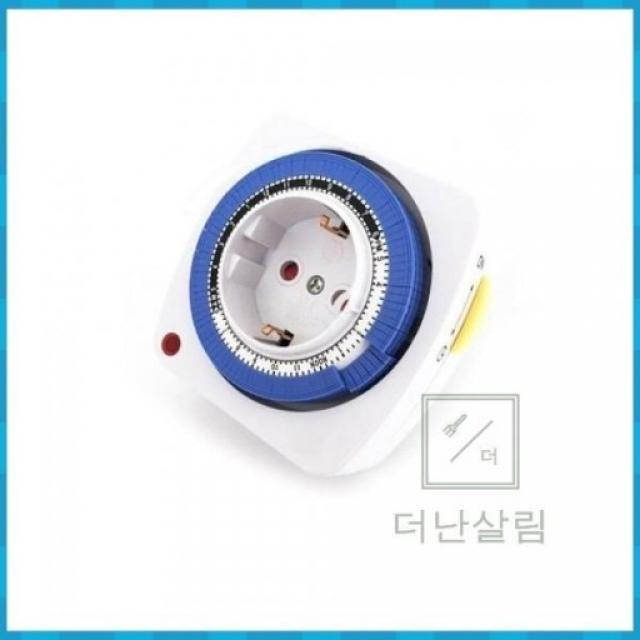typeb: (124, 77, 479, 494)
